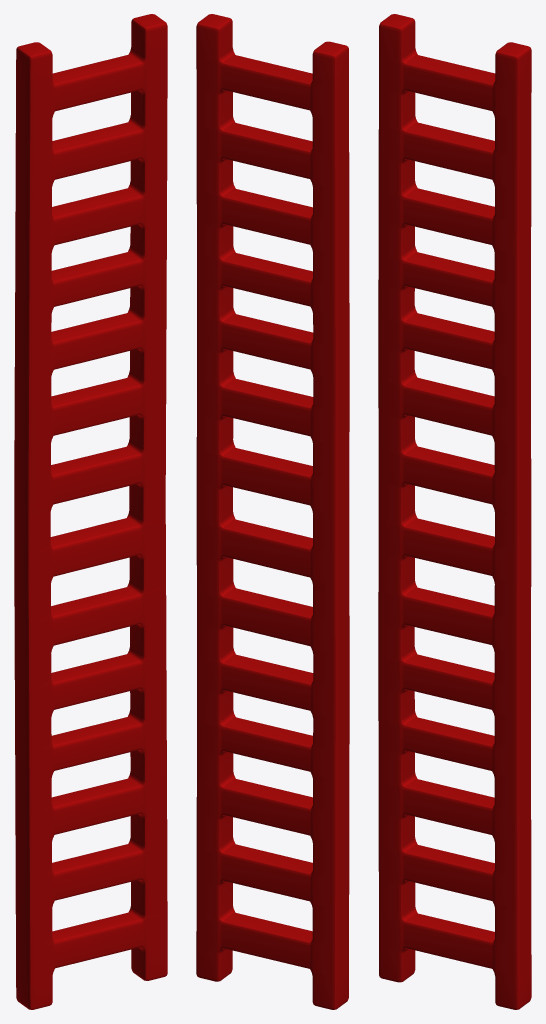
The model's file is S1_L_Ladder02.fbx.
The picture shows the model from 3 angles, left to right: view 1: azimuth 30°, elevation 25°; view 2: azimuth 150°, elevation 25°; view 3: azimuth 330°, elevation 25°; orthographic projection.
Visible parts, largest first — view 1: S1_Ladder02; view 2: S1_Ladder02; view 3: S1_Ladder02.
Boxes of the visible parts, bbox=[...] form: S1_Ladder02: bbox=[14, 14, 167, 1009]; S1_Ladder02: bbox=[196, 14, 349, 1009]; S1_Ladder02: bbox=[378, 14, 531, 1009].
Bounding box in the file's own units: 388 × 2505 × 80.32.
